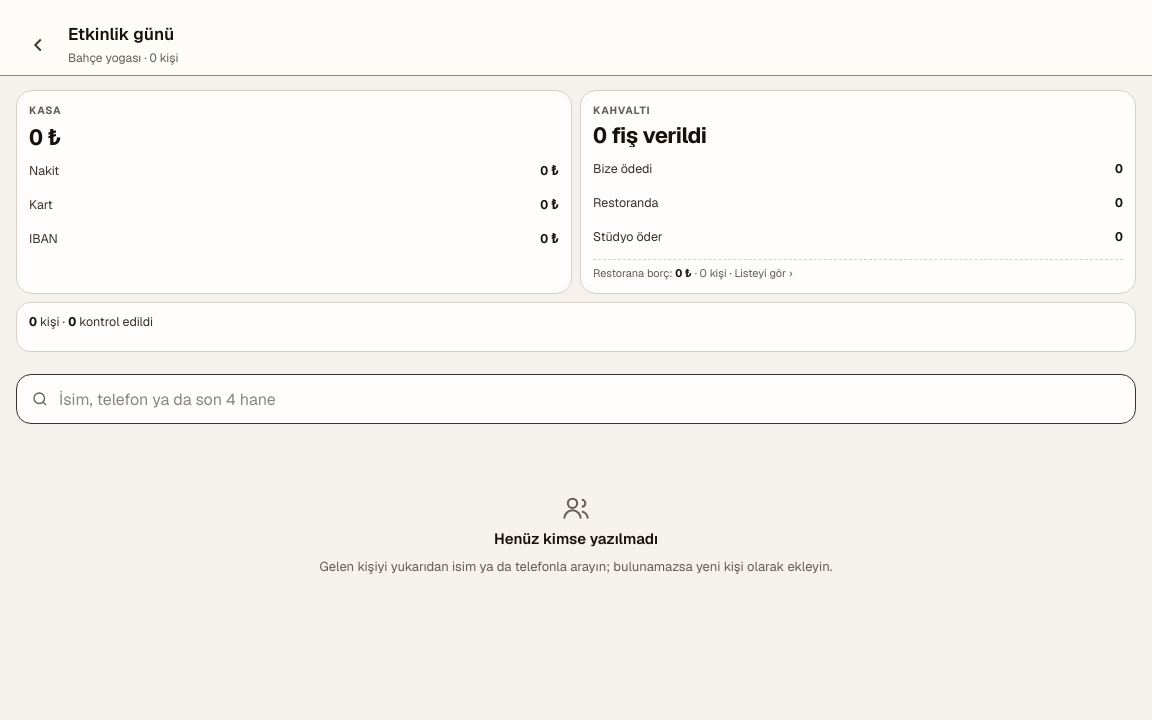
Scenario: MobileEventDay › tam ödemeyle doldurulan tutar yöntem değişince kahvaltıyı izler
Type "Ece" into the field named "Kişi ara" at (593, 399), box [57,376,1129,422]
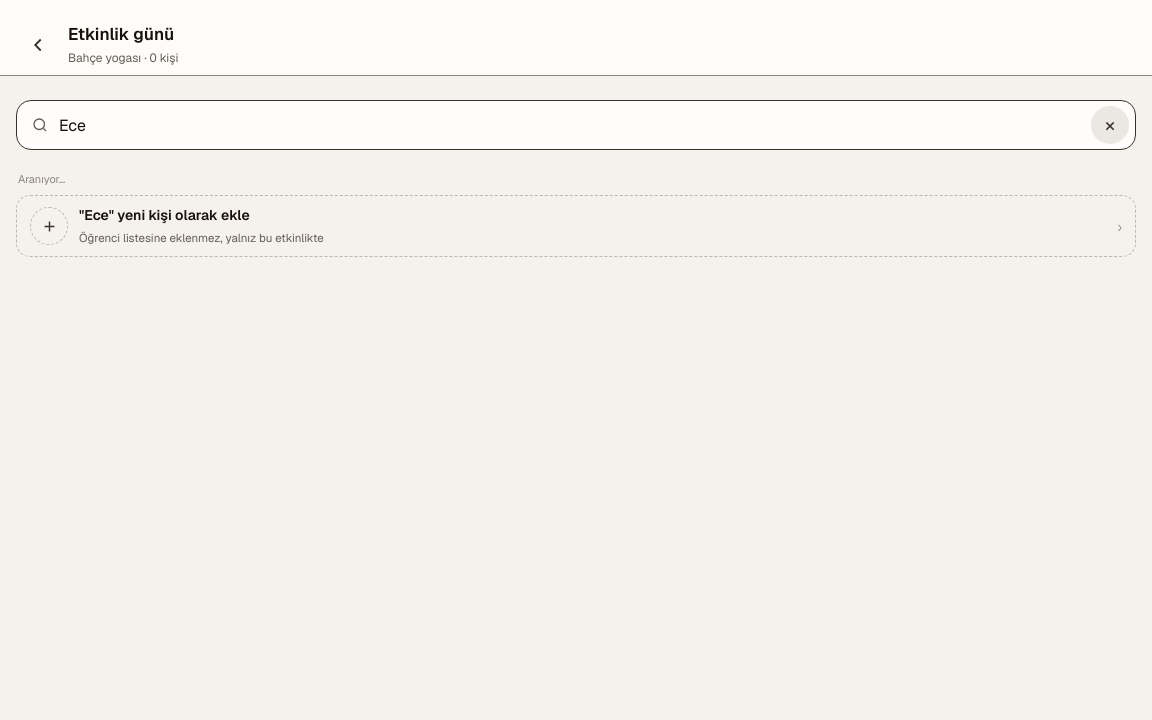
Click the button that starts with "\"Ece\" yeni kişi olarak ekle" at (49, 226), box [16,195,1136,257]
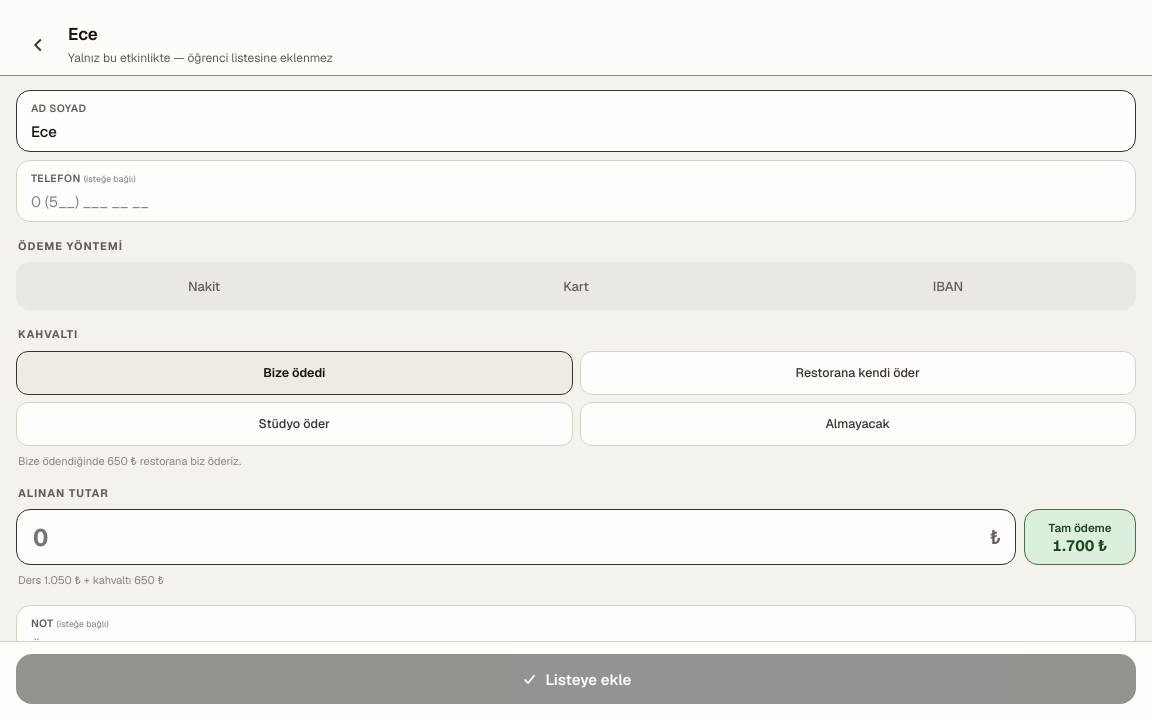
Click the button "Nakit" at (204, 286), box [20,266,388,306]
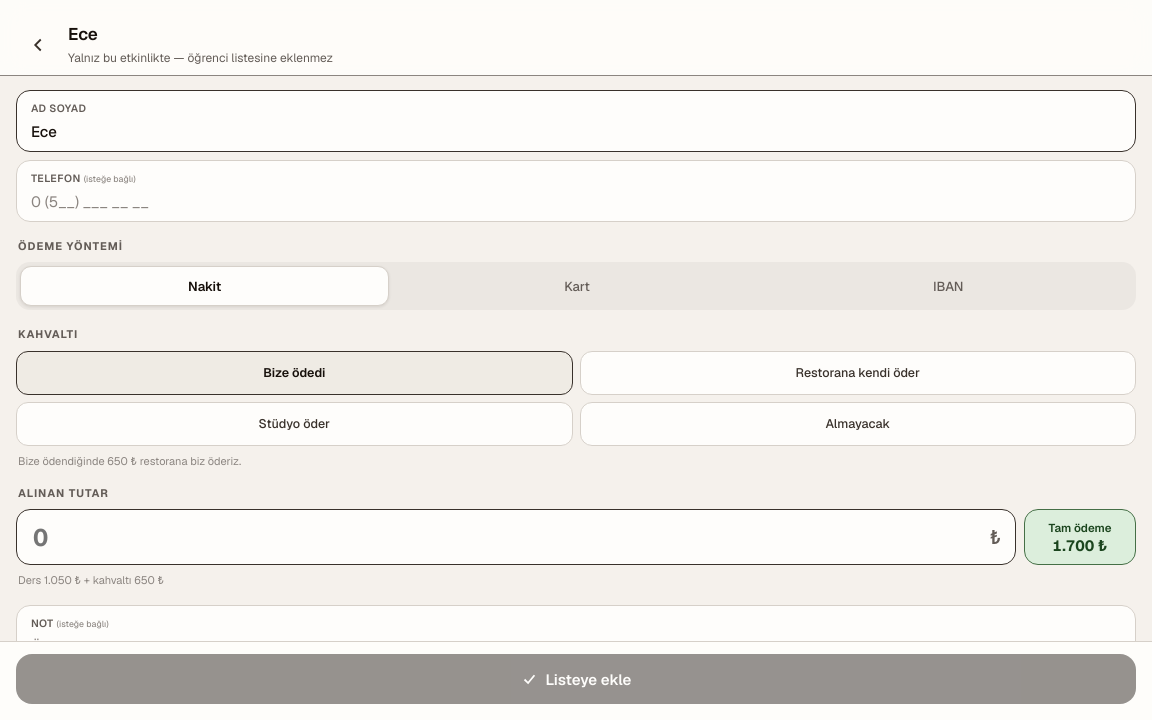
Click the button "Tam ödeme 1.700 ₺" at (1080, 537), box [1024,509,1136,565]
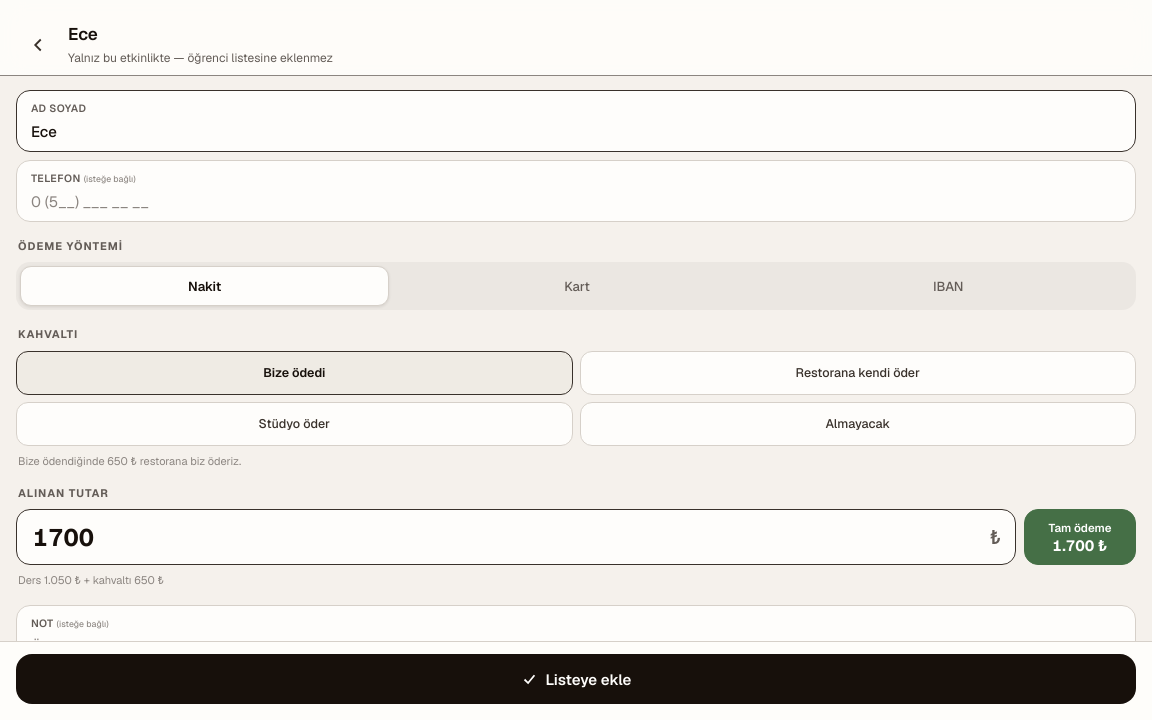
Check: the field named "Alınan tutar" holds "1700", box [31,521,984,554]
Click the button "Kart" at (577, 286), box [393,266,761,306]
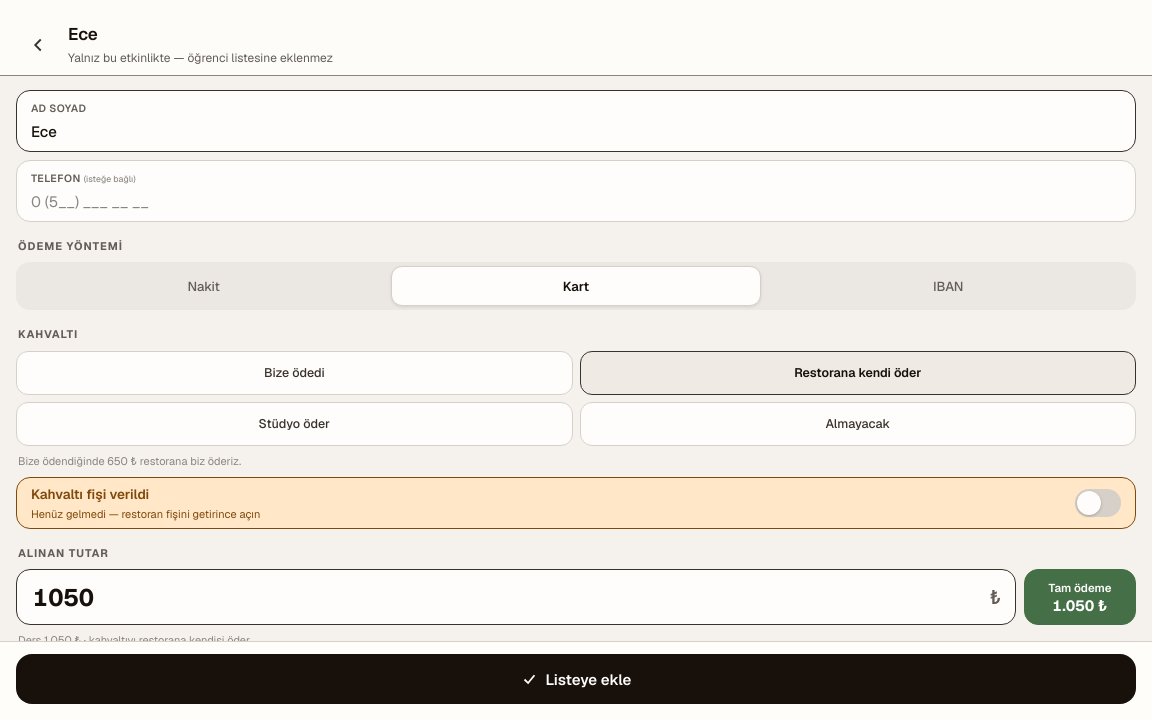
Check: the field named "Alınan tutar" holds "1050", box [31,581,984,614]
